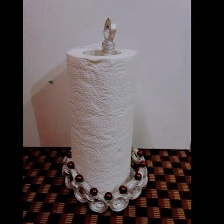tissue: (60, 39, 143, 199)
